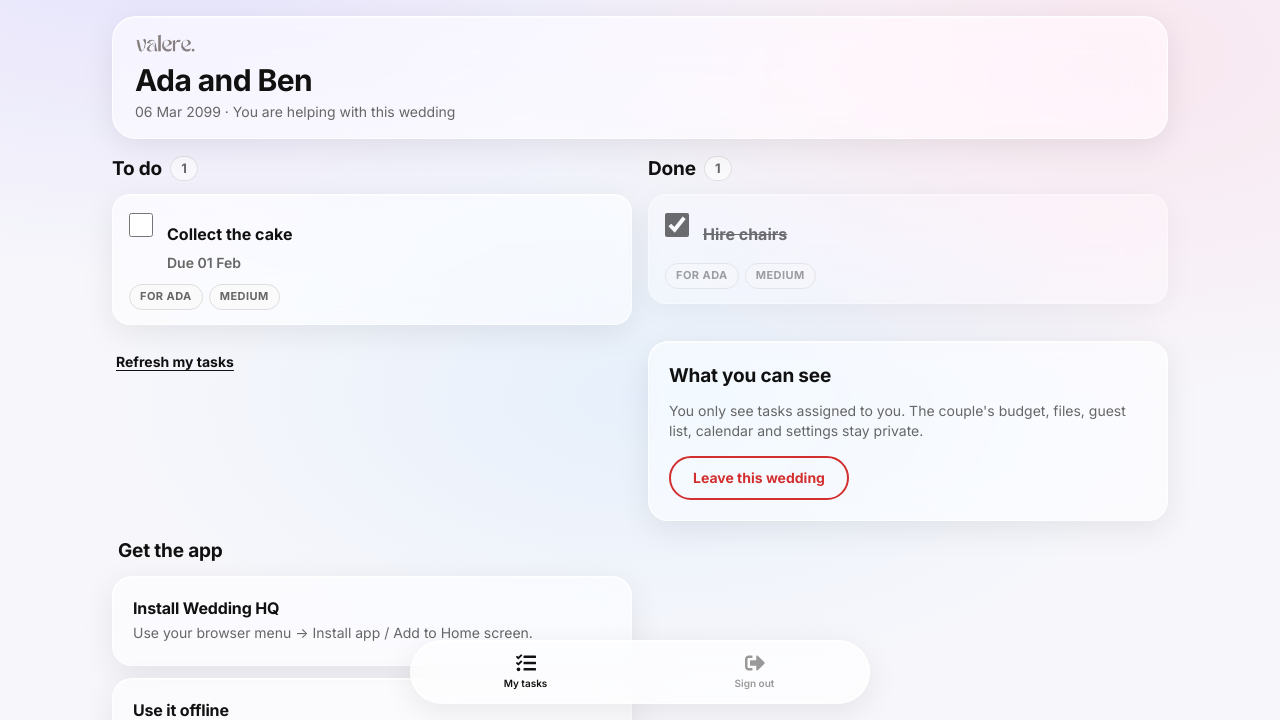
Scenario: changing a task › offers no edit, delete or add controls
Click the button "Collect the cake". click: click(230, 234)
box: [167,209,615,253]
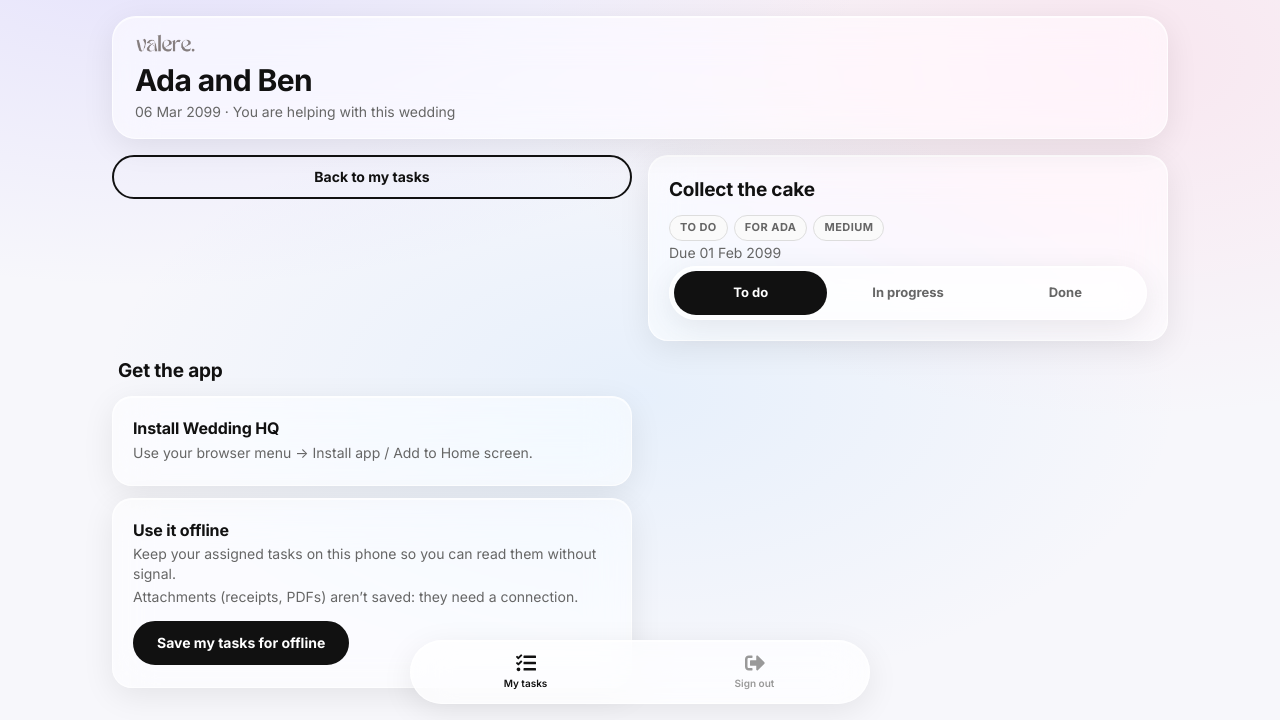
Now the element named "Task details" is shown, box [648,155,1168,341]
